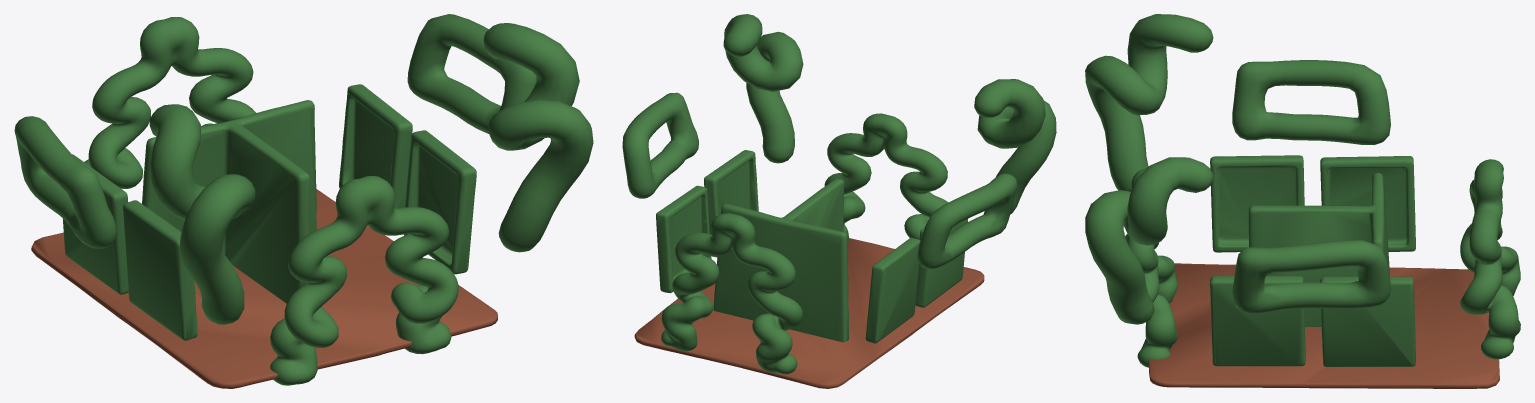
File: artroooms.glb
3 views of the same model, side by side, from view 1: azimuth 30°, elevation 25°; view 2: azimuth 150°, elevation 25°; view 3: azimuth 270°, elevation 25° (orthographic). The views are drawn at different scales.
Parts seen in each view (by area): view 1: Retopo_geom.019, Retopo_geom.012, Retopo_geom.009, Retopo_geom.008, Retopo_geom.020, Retopo_geom.006, Retopo_geom.011, Retopo_geom.007; view 2: Retopo_geom.019, Retopo_geom.012, Retopo_geom.008, Retopo_geom.011, Retopo_geom.020, Retopo_geom.007, Retopo_geom.009, Retopo_geom.006; view 3: Retopo_geom.019, Retopo_geom.012, Retopo_geom.020, Retopo_geom.006, Retopo_geom.007, Retopo_geom.011, Retopo_geom.008, Retopo_geom.009.
Boxes of the visible parts, x1,y1,x2,y2 form: Retopo_geom.019: [149, 23, 593, 324]; Retopo_geom.012: [31, 189, 497, 388]; Retopo_geom.009: [270, 176, 458, 385]; Retopo_geom.008: [142, 100, 316, 303]; Retopo_geom.020: [14, 14, 536, 248]; Retopo_geom.006: [123, 130, 476, 340]; Retopo_geom.011: [84, 17, 255, 188]; Retopo_geom.007: [62, 84, 412, 294]; Retopo_geom.019: [723, 14, 1056, 214]; Retopo_geom.012: [634, 238, 984, 388]; Retopo_geom.008: [713, 178, 848, 342]; Retopo_geom.011: [661, 213, 802, 374]; Retopo_geom.020: [622, 92, 1017, 269]; Retopo_geom.007: [656, 185, 920, 343]; Retopo_geom.009: [824, 113, 948, 241]; Retopo_geom.006: [704, 150, 967, 307]; Retopo_geom.019: [1085, 14, 1213, 324]; Retopo_geom.012: [1148, 263, 1499, 388]; Retopo_geom.020: [1232, 60, 1390, 314]; Retopo_geom.006: [1210, 155, 1305, 366]; Retopo_geom.007: [1320, 156, 1415, 366]; Retopo_geom.011: [1460, 159, 1520, 359]; Retopo_geom.008: [1248, 173, 1389, 326]; Retopo_geom.009: [1117, 168, 1177, 367].
Size of what is drawn, in the model's own units: 10.6 by 6.2 by 9.84.
